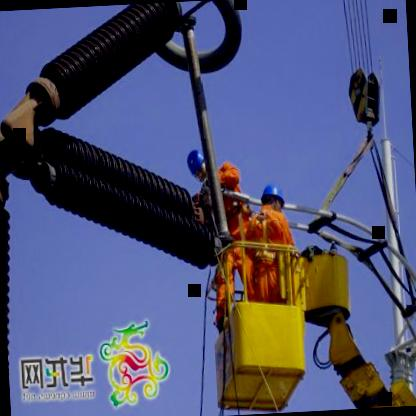helmet: (180, 145, 209, 188), (256, 179, 286, 219)
